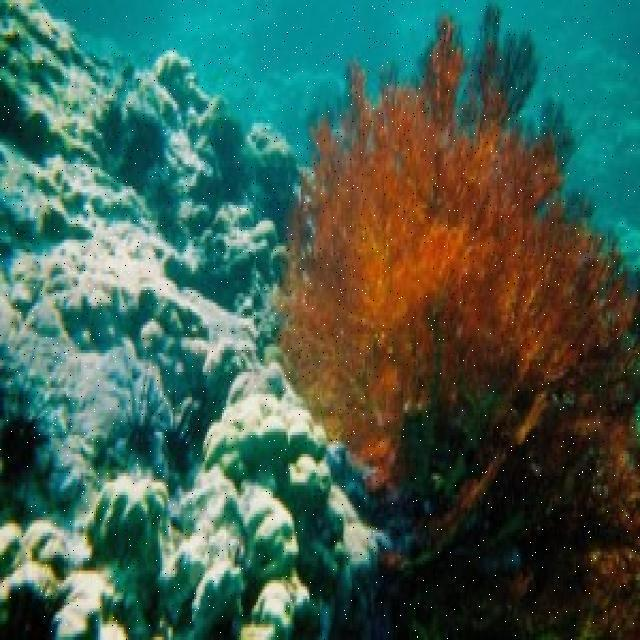Bleached: (1, 1, 378, 640)
Healthy: (278, 1, 640, 640)
